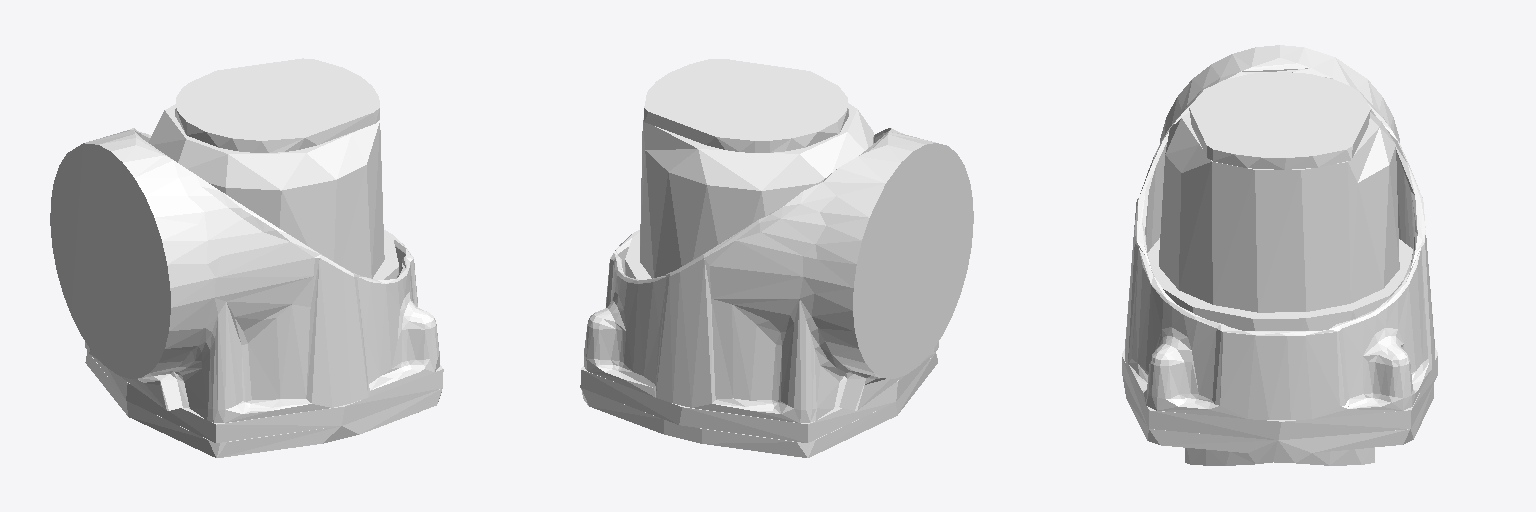
Rendered from fr_hip_visuals_mesh_0.obj.
3 renders of one model, left to right at view 1: azimuth 30°, elevation 25°; view 2: azimuth 150°, elevation 25°; view 3: azimuth 270°, elevation 25°, orthographic.
Size of the model in its own units: 0.1013 by 0.1003 by 0.0956.